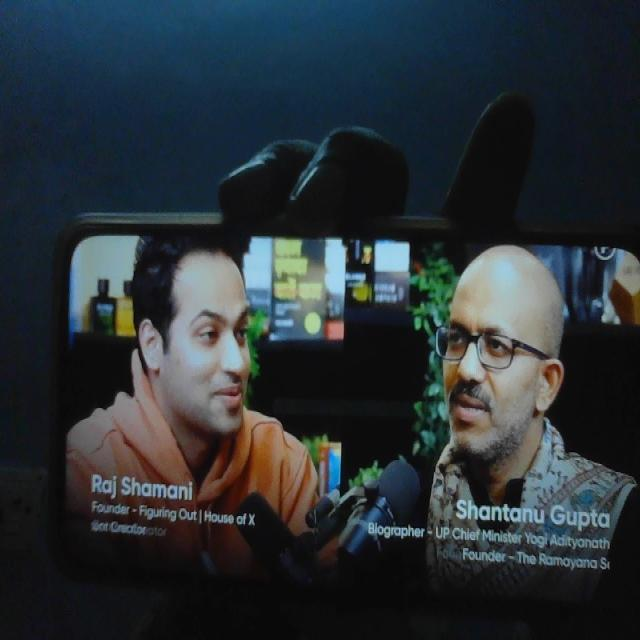fake: (134, 216, 258, 451)
